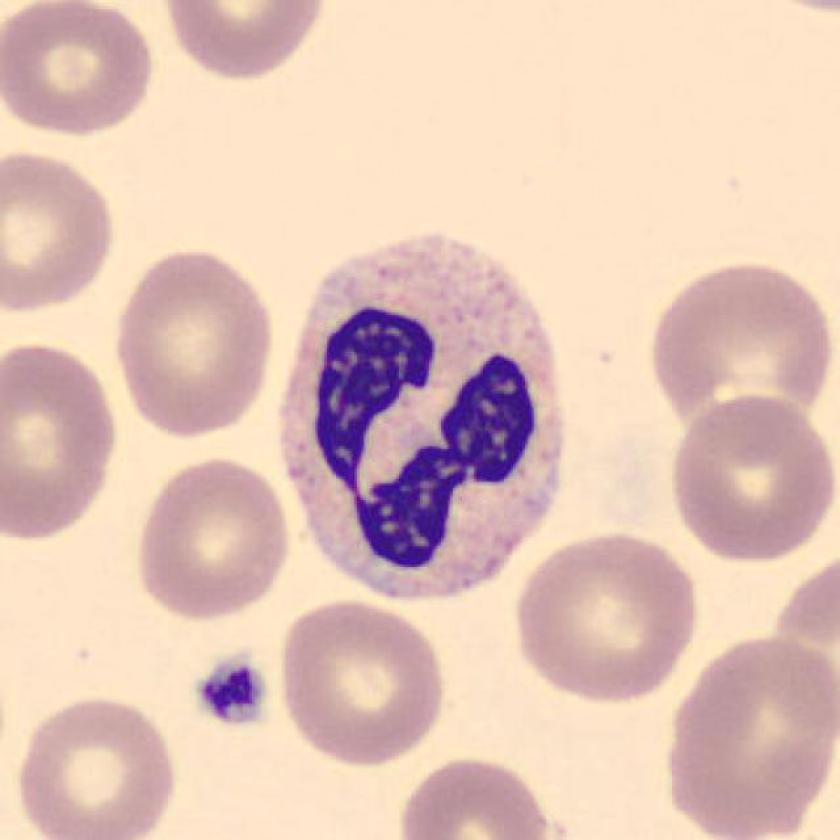neutrophil: (281, 239, 566, 596)
